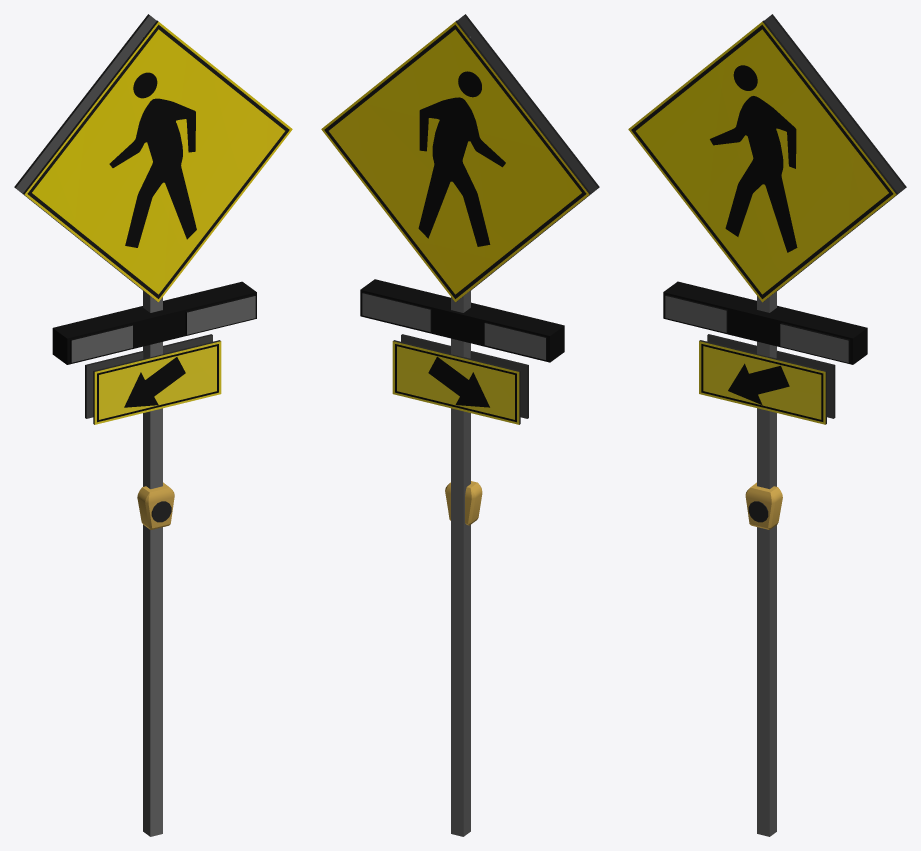
The model's file is sign-warning-ped-rrfb.glb.
3 renders of one model, left to right at view 1: azimuth 30°, elevation 25°; view 2: azimuth 150°, elevation 25°; view 3: azimuth 330°, elevation 25°, orthographic.
Visible parts, largest first — view 1: sign-warning-ped-rrfb; view 2: sign-warning-ped-rrfb; view 3: sign-warning-ped-rrfb.
Boxes of the visible parts, <box> form: sign-warning-ped-rrfb: <box>14,14,292,836</box>; sign-warning-ped-rrfb: <box>321,14,599,836</box>; sign-warning-ped-rrfb: <box>628,14,906,836</box>.
Bounding box in the file's own units: 0.6466 × 1.88 × 0.0707.
1 material, 1 textured.
